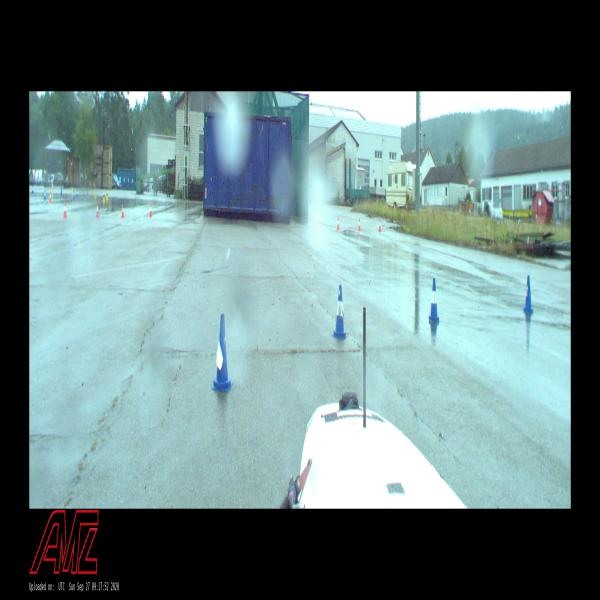blue_cone: (212, 314, 233, 391), (332, 285, 347, 338), (429, 279, 440, 322), (524, 276, 533, 312)
orange_cone: (63, 202, 67, 217), (96, 203, 99, 217), (121, 204, 124, 217), (314, 215, 317, 228), (337, 217, 340, 229), (149, 204, 152, 216), (358, 219, 361, 230), (379, 220, 381, 231), (49, 192, 51, 202)
yellow_cone: (103, 192, 105, 201), (106, 191, 108, 199)
